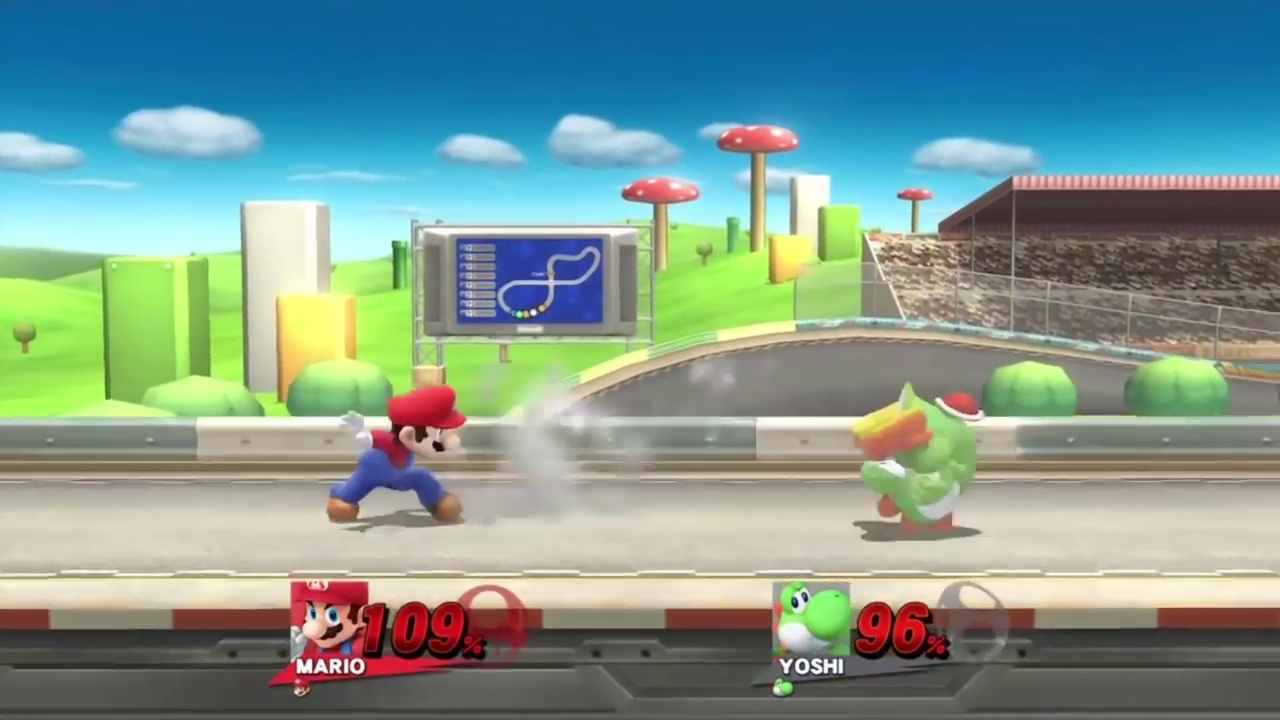Mario: (327, 386, 467, 521)
